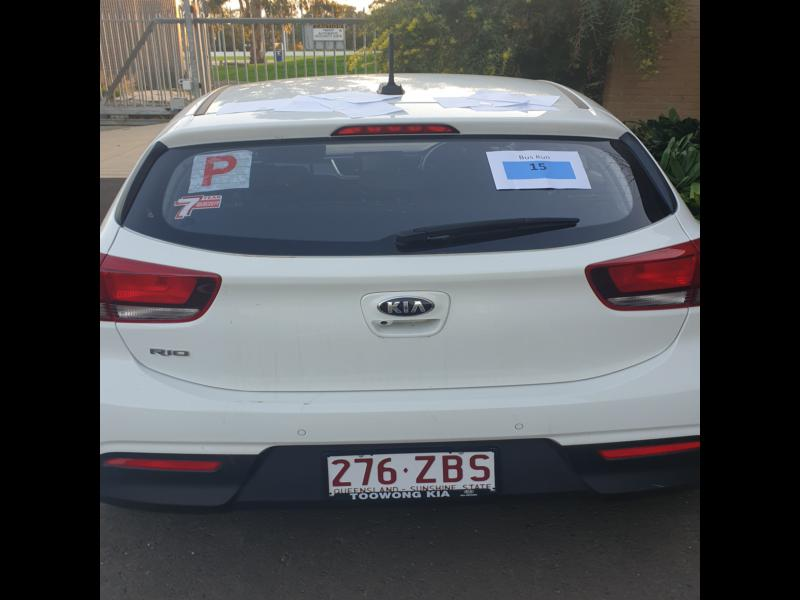BusRun: (501, 158, 578, 181)
PlateNo: (326, 450, 497, 498)
